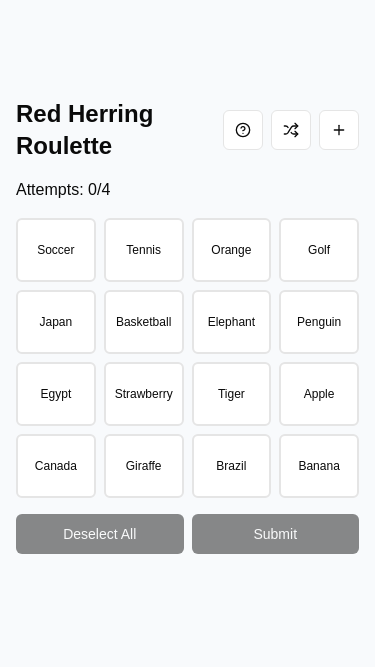
Home Page › Puzzle Editing › should open edit dialog when clicking the new puzzle button
The image size is (375, 667).
Click the button with test id "new-puzzle-button".
click(339, 130)  # box [319, 110, 359, 150]
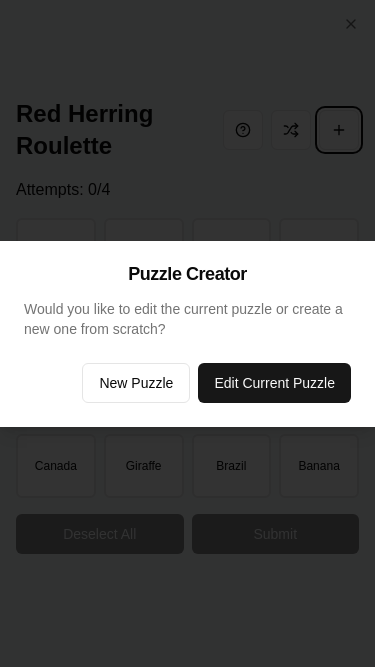
Expected: the element with test id "edit-dialog-content" is shown, [0, 241, 374, 427]
Expected: the heading with test id "edit-dialog-title" reads "Puzzle Creator", [128, 264, 247, 284]
Expected: the text with test id "edit-dialog-description" reads "Would you like to edit the current puzzle or create a new one from scratch?", [24, 301, 343, 337]
